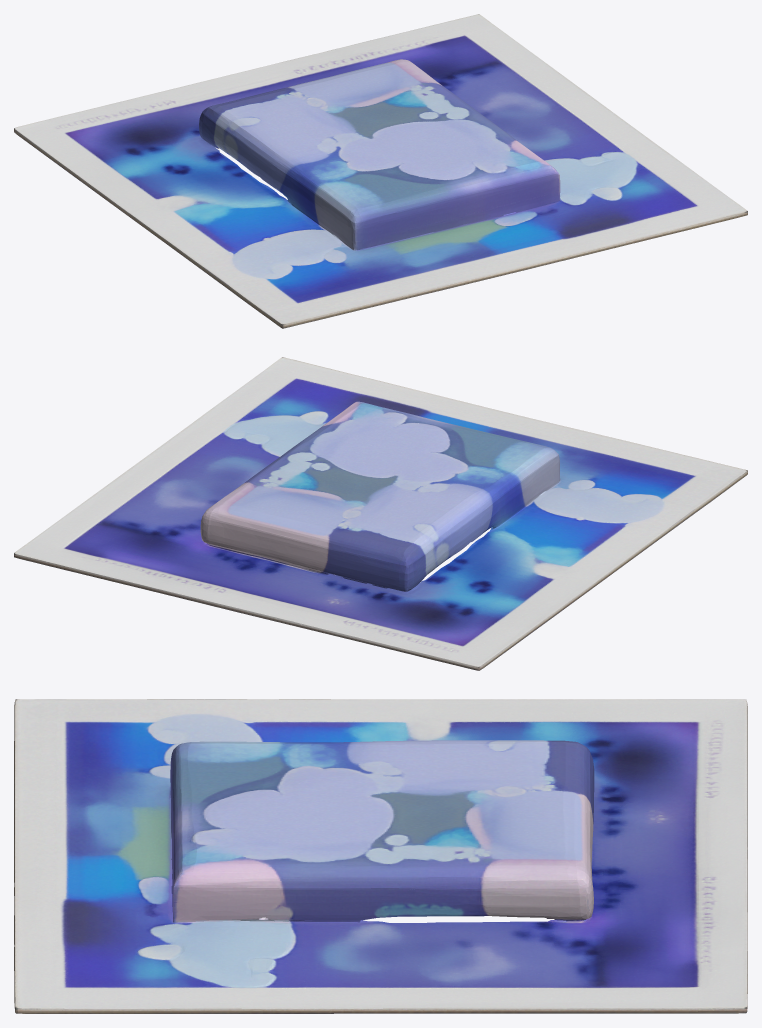
File: trellis_result.glb
The picture shows the model from 3 angles, top to bottom: view 1: azimuth 30°, elevation 25°; view 2: azimuth 150°, elevation 25°; view 3: azimuth 270°, elevation 25°; orthographic projection. The views are drawn at different scales.
Visible parts, largest first — view 1: world; view 2: world; view 3: world.
Boxes of the visible parts, <box> form: world: <box>14,14,747,328</box>; world: <box>14,357,747,670</box>; world: <box>14,699,747,1013</box>.
Bounding box in the file's own units: 1 × 0.0861 × 1.
Materials: 1 (1 with a texture image).
